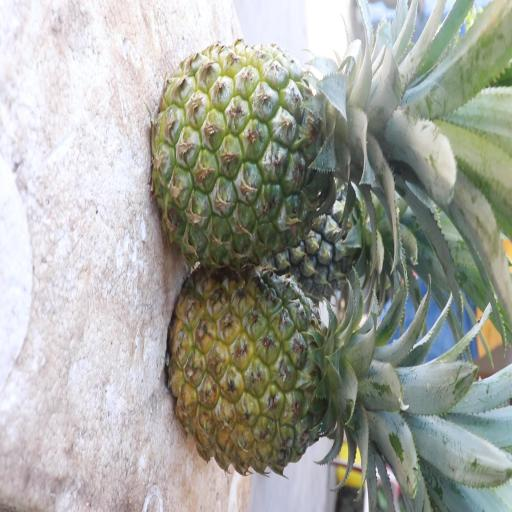------------------------------: (147, 37, 401, 269)
Pineapple - v8 v1: (174, 271, 379, 499)
